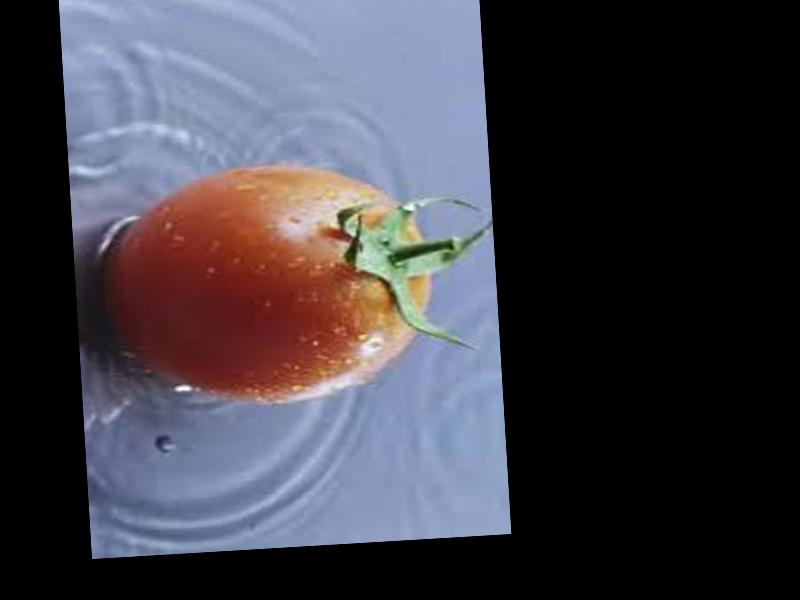Tomato: (97, 157, 435, 409)
